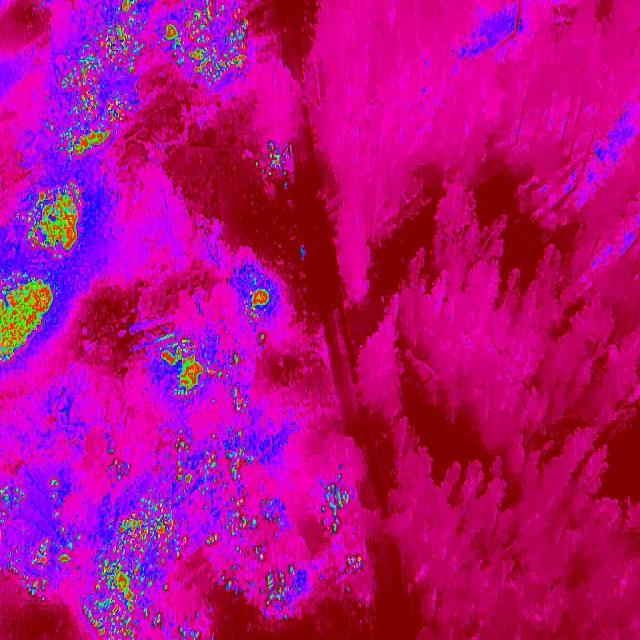fire: (79, 564, 172, 640), (178, 0, 258, 88), (162, 430, 258, 495), (100, 497, 183, 567), (198, 495, 274, 567), (0, 276, 54, 364), (23, 182, 87, 256), (52, 98, 124, 161), (159, 336, 213, 402), (314, 471, 360, 537), (96, 24, 146, 74), (216, 350, 253, 414), (59, 55, 106, 105), (258, 562, 302, 614), (23, 533, 73, 575), (258, 139, 298, 189), (238, 282, 276, 326), (157, 20, 190, 64), (0, 477, 26, 522), (112, 0, 156, 24), (104, 454, 132, 486), (20, 575, 52, 603), (342, 551, 369, 578), (46, 474, 64, 504), (255, 330, 268, 346)
